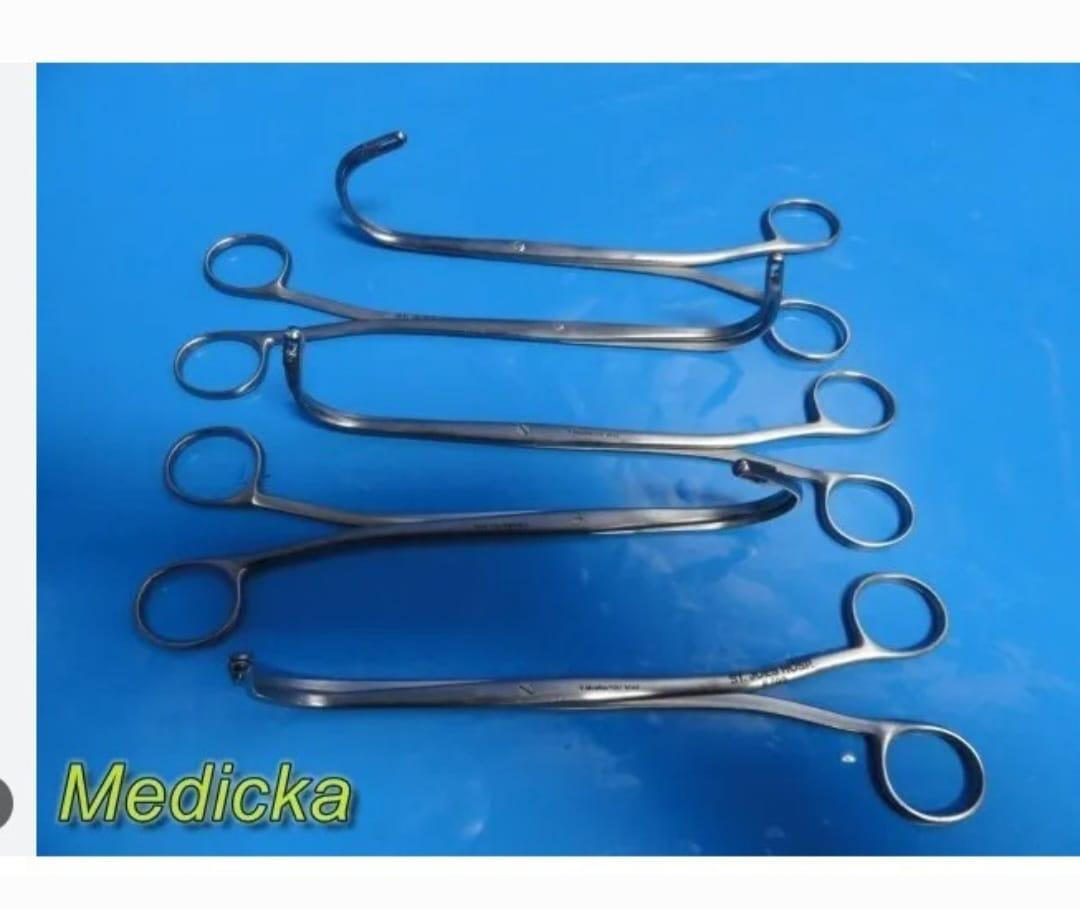Randall Forceps: (219, 559, 1006, 834), (114, 413, 814, 654), (279, 320, 921, 563), (316, 117, 857, 354), (163, 220, 790, 400)
